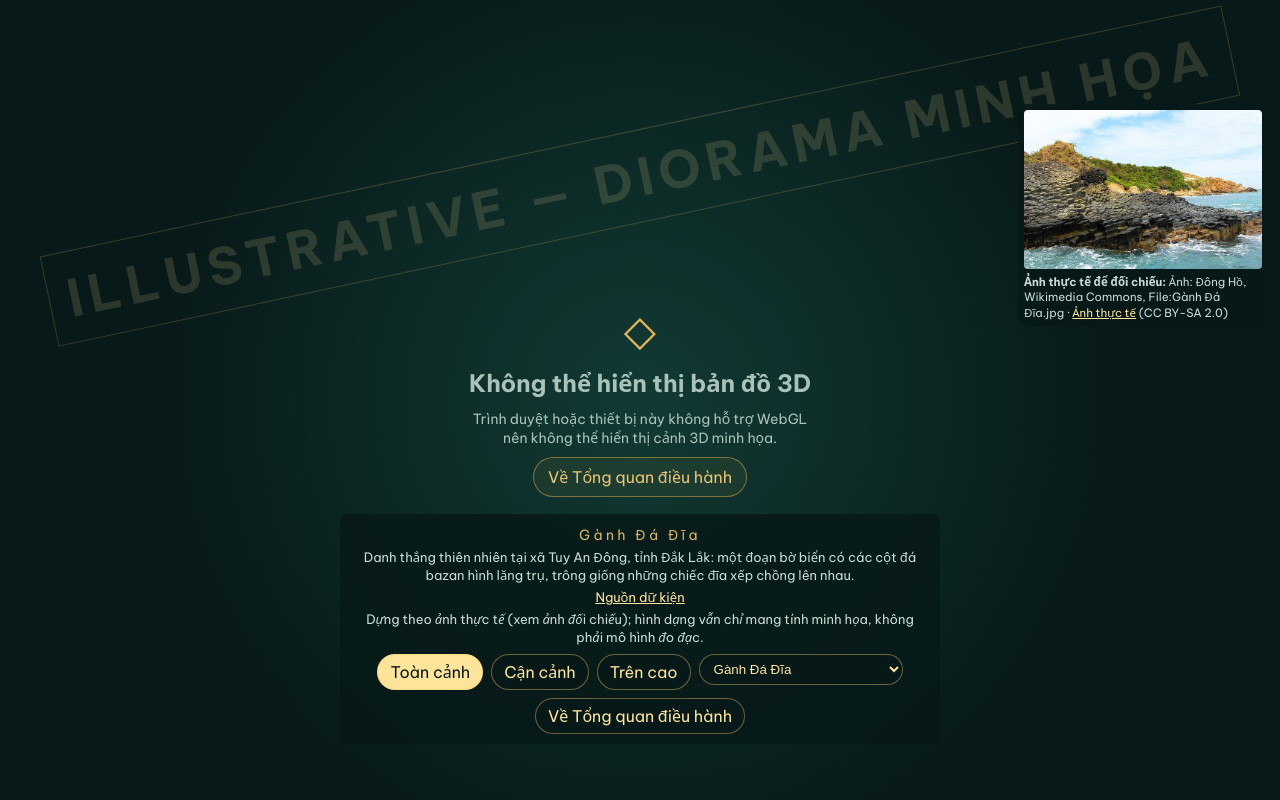
Test: DestinationDioramaView › shows the real photo next to the scene with attribution and licence, and lets it be enlarged
The width and height of the screenshot is (1280, 800).
Check: the text "Ảnh: Đông Hồ, Wikimedia Commons, File:Gành Đá Đĩa.jpg" is shown, box [1024,274,1246,320]
Click the button named "phóng to ảnh thực tế". click: (1143, 189)
box: [1024,110,1262,269]
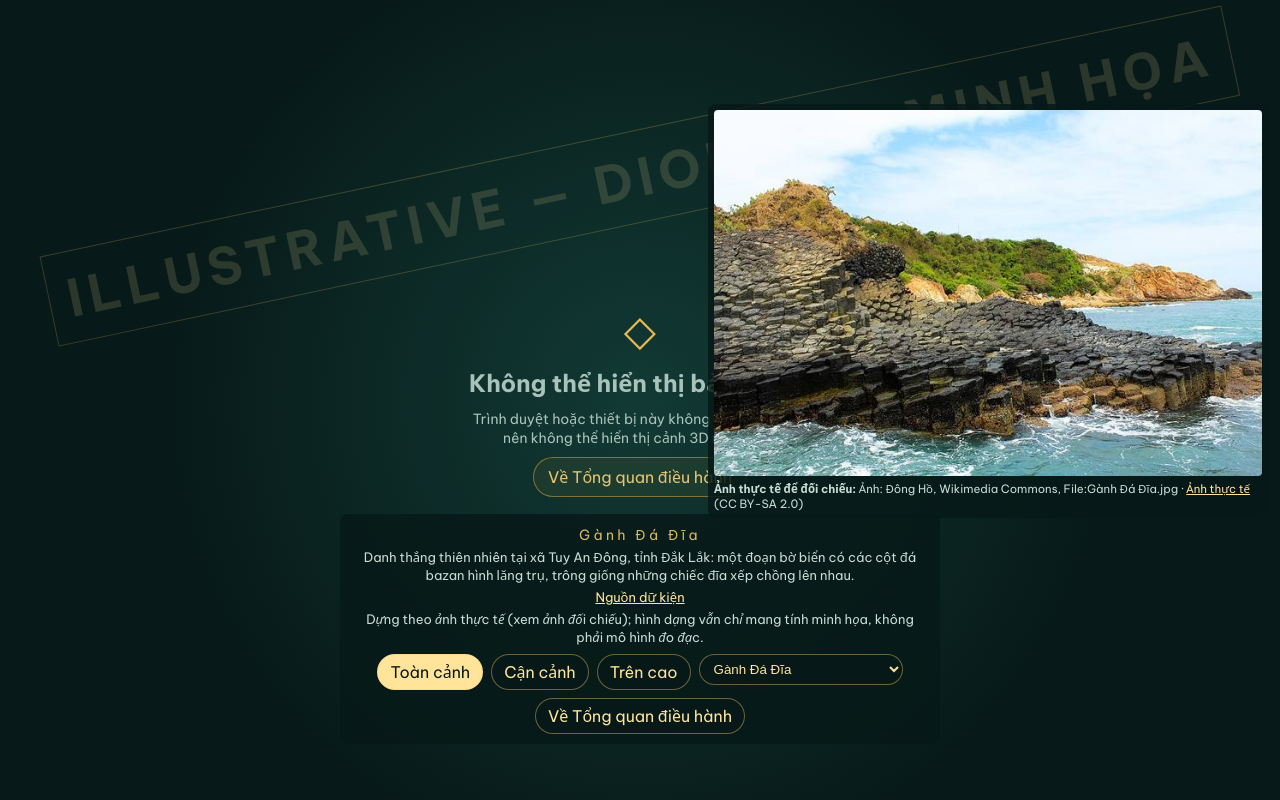
Check: the button named "thu nhỏ ảnh thực tế" is expanded, box [714,110,1262,476]
